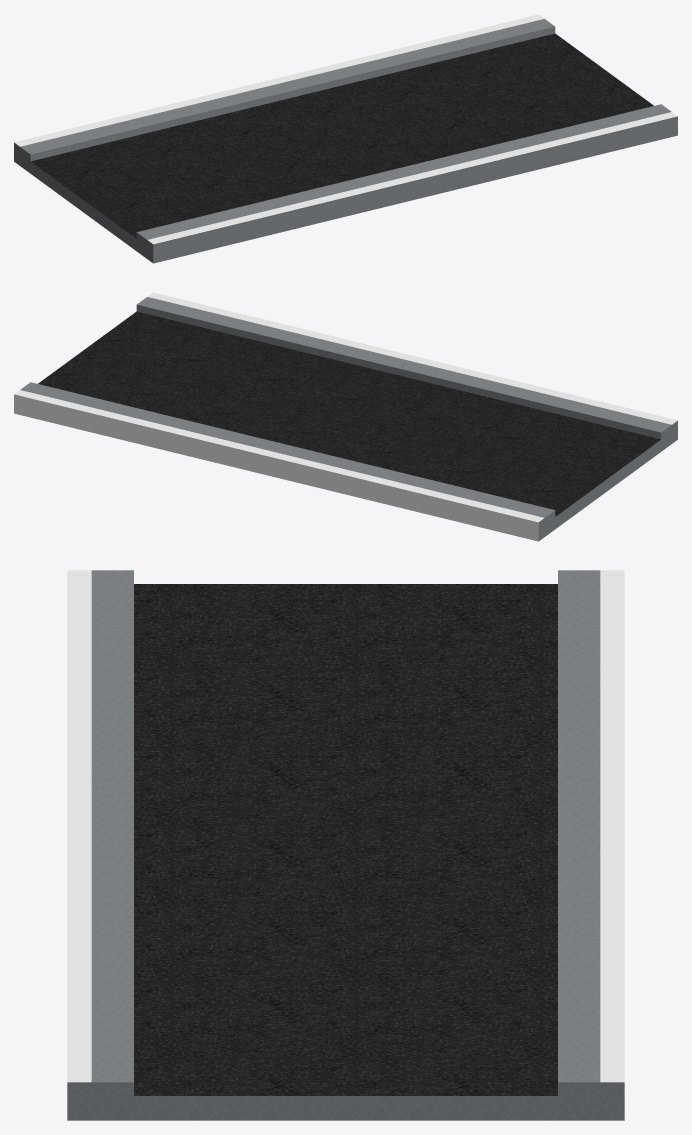
The model's file is RoadSurface20m.dae.
3 views of the same model, one above another, from view 1: azimuth 30°, elevation 25°; view 2: azimuth 150°, elevation 25°; view 3: azimuth 270°, elevation 25° (orthographic). The views are drawn at different scales.
Visible parts, largest first — view 1: SketchUp (×4); view 2: SketchUp (×4); view 3: SketchUp (×4).
Boxes of the visible parts, box(x1,y1,x2,y2) form: SketchUp (×4): box(14, 14, 677, 263); SketchUp (×4): box(14, 292, 677, 541); SketchUp (×4): box(67, 570, 624, 1120).
Size of the model in its own units: 787 by 362 by 27.56.
3 materials, 2 textured.
